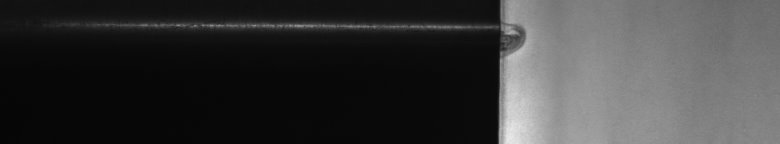hb: (512, 16, 532, 60)
